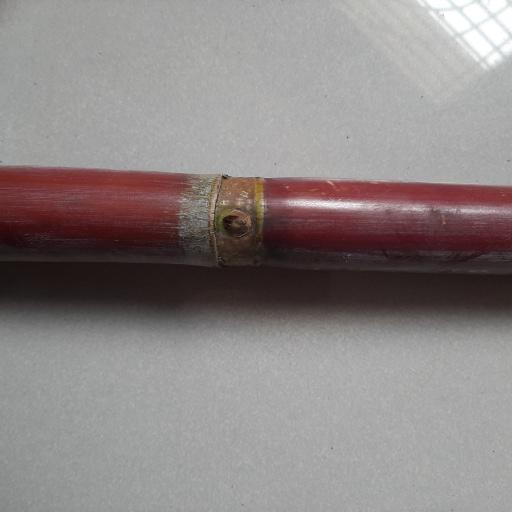Bud: (218, 214, 251, 237)
